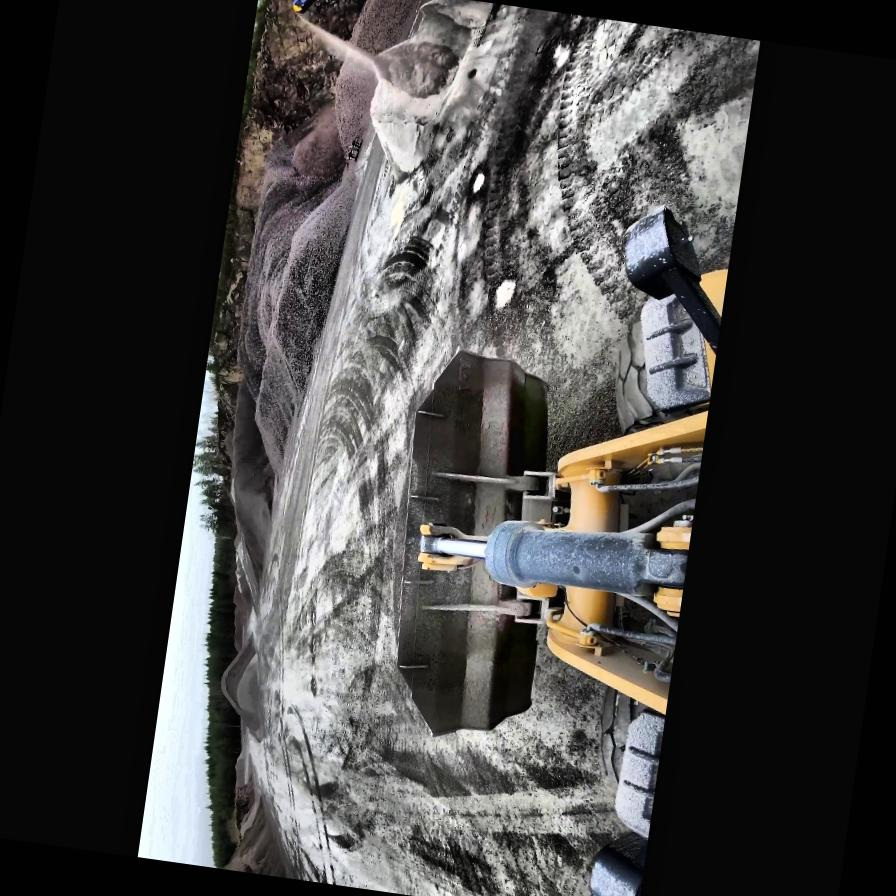anchor: (414, 522, 484, 576)
pile of gravel: (221, 100, 370, 460), (355, 0, 504, 195), (212, 400, 285, 574), (216, 792, 310, 880), (214, 631, 271, 734), (230, 752, 248, 788)
